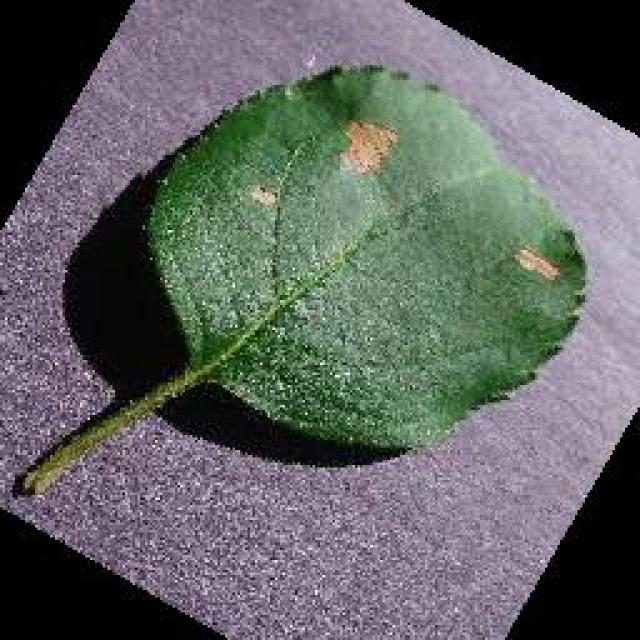Apple___Black_rot: (133, 56, 593, 456)
